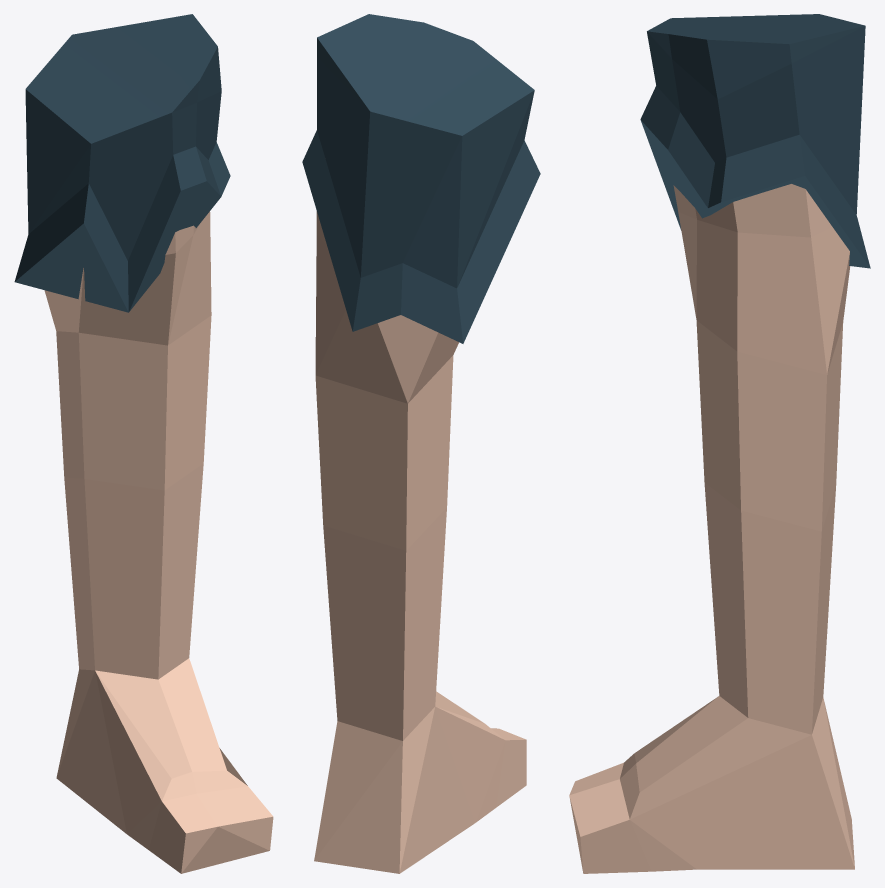
File: ZombieLeftLeg.fbx
3 renders of one model, left to right at view 1: azimuth 30°, elevation 25°; view 2: azimuth 150°, elevation 25°; view 3: azimuth 270°, elevation 25°, orthographic. The views are drawn at different scales.
Visible parts, largest first — view 1: polySurface25; view 2: polySurface25; view 3: polySurface25.
Boxes of the visible parts, <box> form: polySurface25: <box>14,14,273,873</box>; polySurface25: <box>302,14,540,873</box>; polySurface25: <box>569,14,870,873</box>.
Size of the model in its own units: 18.54 by 80.08 by 26.05.
